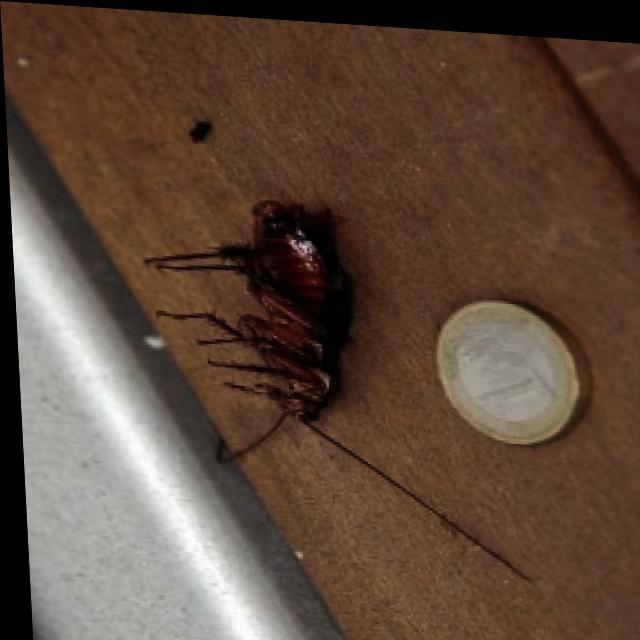cockroach: (143, 193, 360, 467)
